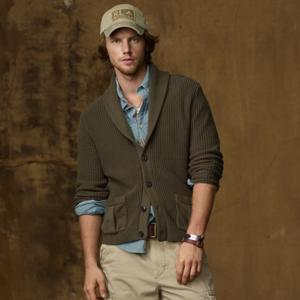S_cardigan sweater: (70, 67, 226, 244)
